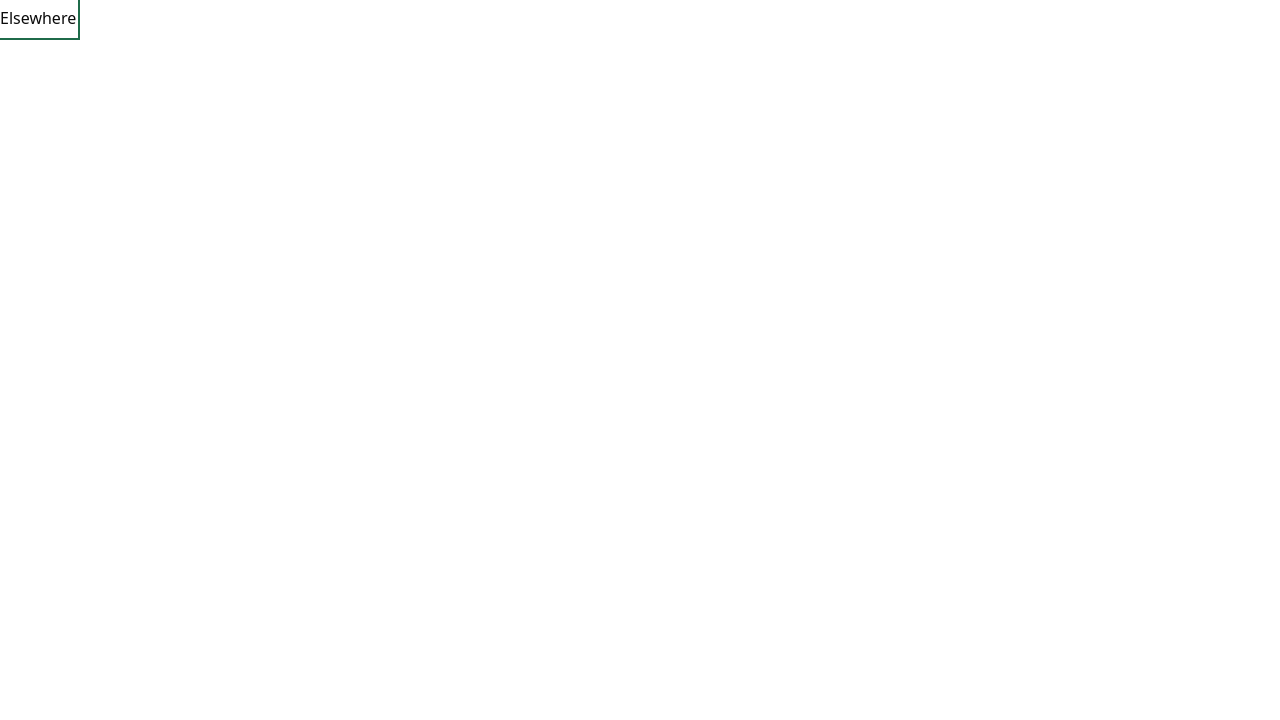
CommandPalette › reads the page's state when it opens and gives focus back on Escape
Press k
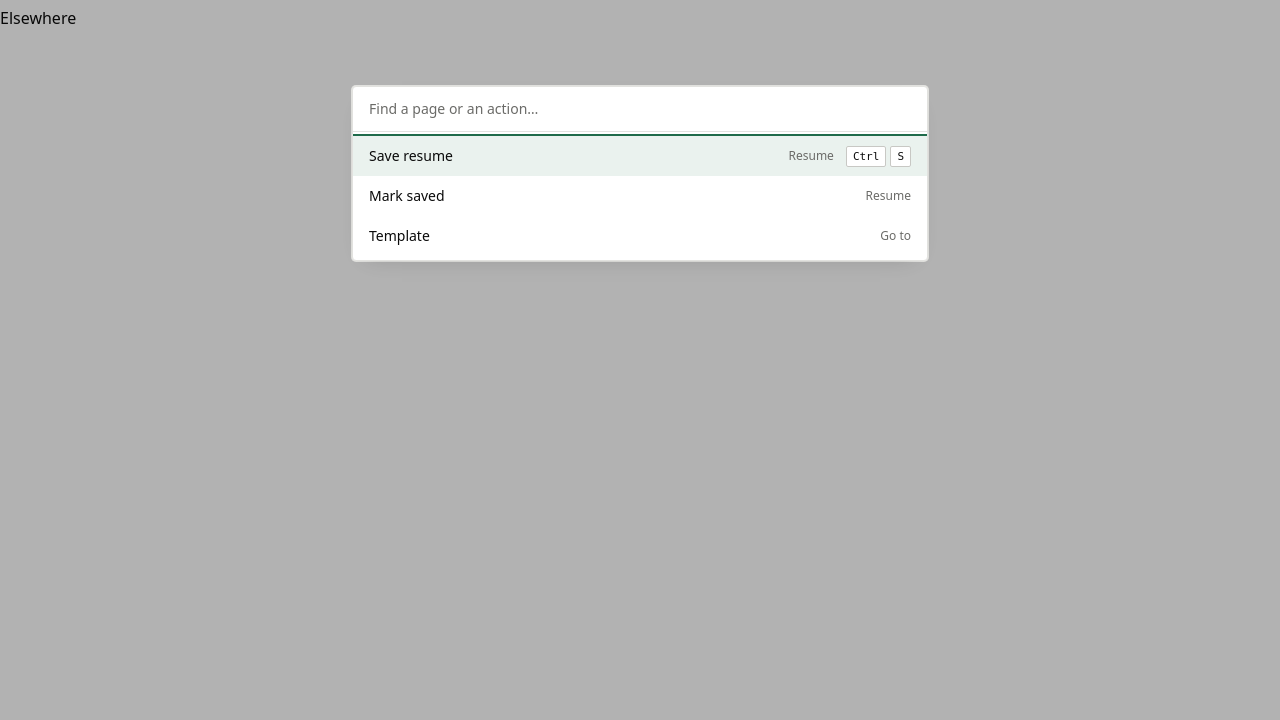
Click the option "Mark saved Resume": (407, 196) 369,186 -> 911,205
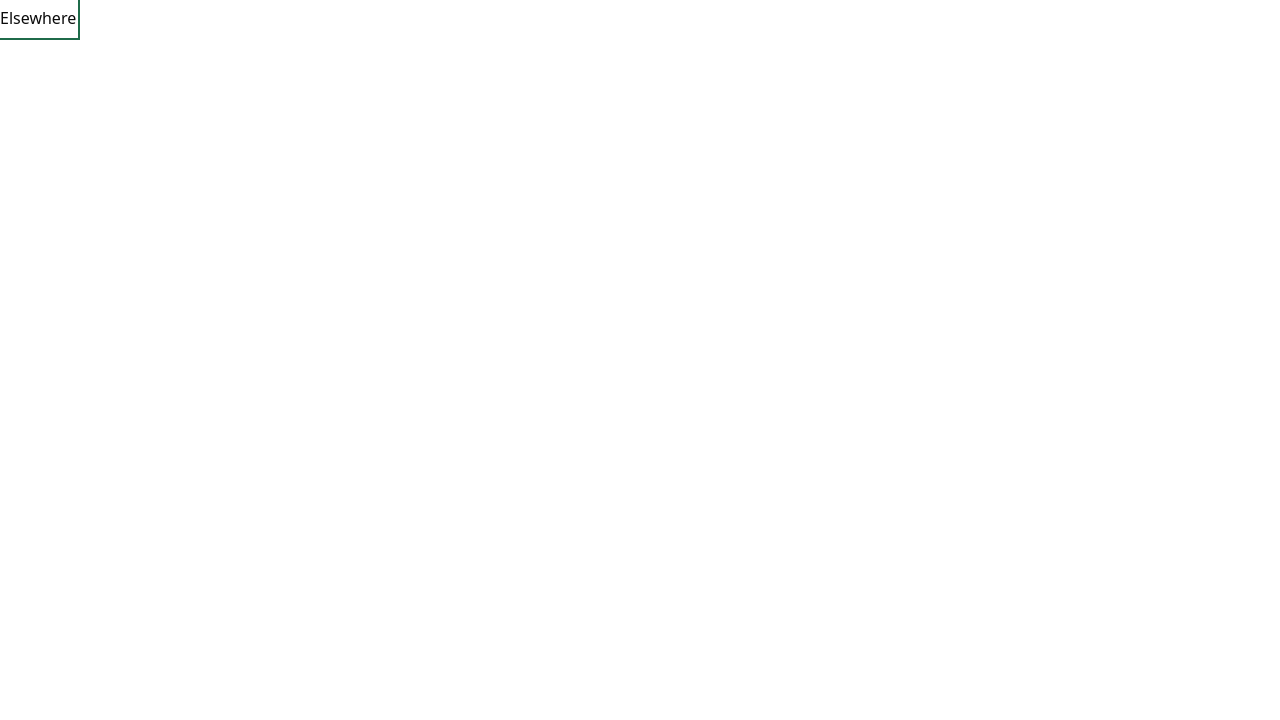
Press k
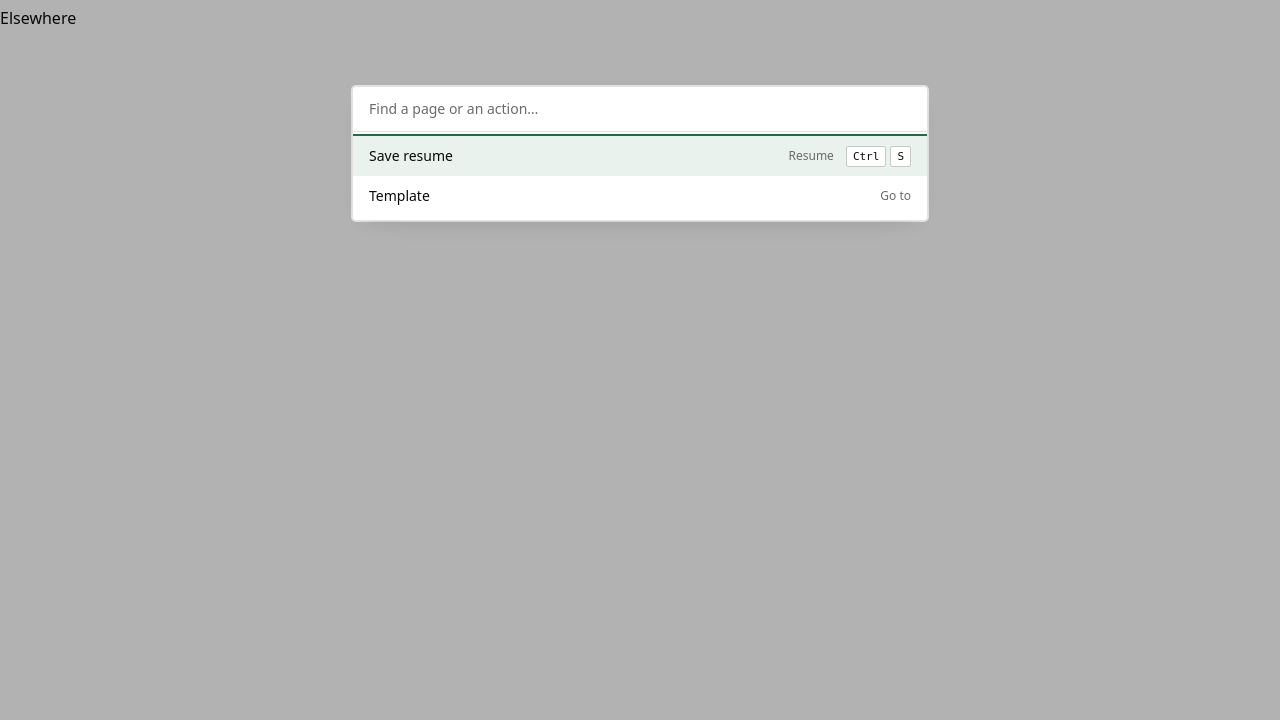
Expected: the option "Mark saved" is not shown
Press Escape in the dropdown labelled "Find a page or an action", box 353,87 -> 927,132
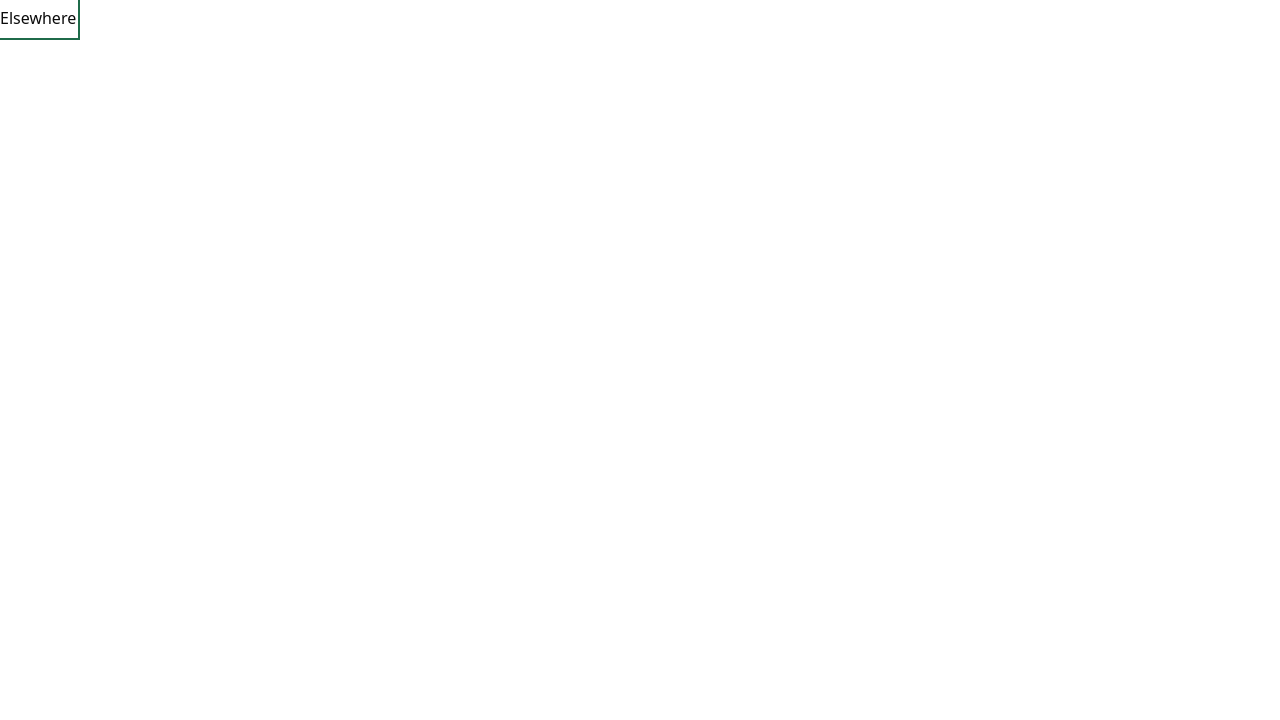
Expected: the dialog is gone
